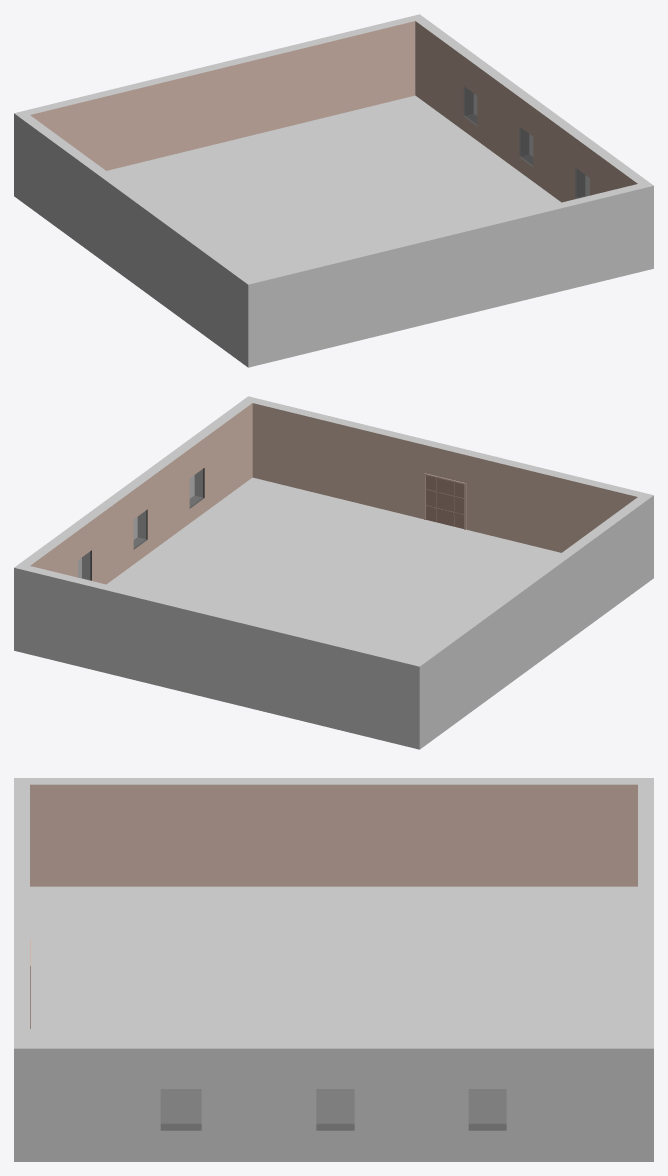
The model's file is Court Room with windows .fbx.
3 renders of one model, top to bottom at view 1: azimuth 30°, elevation 25°; view 2: azimuth 150°, elevation 25°; view 3: azimuth 270°, elevation 25°, orthographic. The views are drawn at different scales.
Visible parts, largest first — view 1: Cube; view 2: Cube; view 3: Cube.
Boxes of the visible parts, <box> form: Cube: <box>14,14,653,367</box>; Cube: <box>14,396,653,749</box>; Cube: <box>14,778,653,1161</box>.
Bounding box in the file's own units: 2000 × 391 × 2000.
